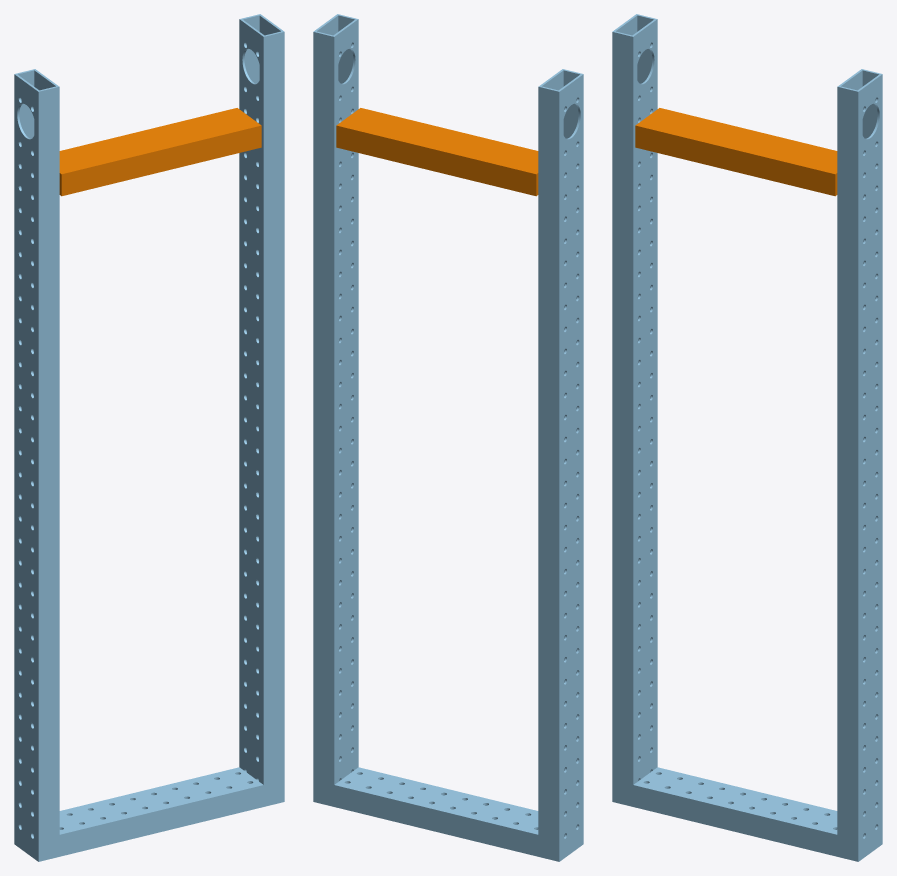
3 views of the same model, side by side, from view 1: azimuth 30°, elevation 25°; view 2: azimuth 150°, elevation 25°; view 3: azimuth 330°, elevation 25° (orthographic).
Parts seen in each view (by area): view 1: Part 8 (×2), Part 9, Part 24; view 2: Part 8 (×2), Part 9, Part 24; view 3: Part 8 (×2), Part 9, Part 24.
Part boxes in pixels (left/top/right/bottom): Part 8 (×2): left=14, top=14, right=284, bottom=861; Part 9: left=59, top=767, right=263, bottom=856; Part 24: left=59, top=108, right=261, bottom=196; Part 8 (×2): left=313, top=14, right=583, bottom=861; Part 9: left=334, top=767, right=538, bottom=856; Part 24: left=336, top=108, right=538, bottom=196; Part 8 (×2): left=612, top=14, right=882, bottom=861; Part 9: left=633, top=767, right=837, bottom=856; Part 24: left=635, top=108, right=837, bottom=196.
Bounding box in the file's own units: 0.234 × 0.6993 × 0.04.
